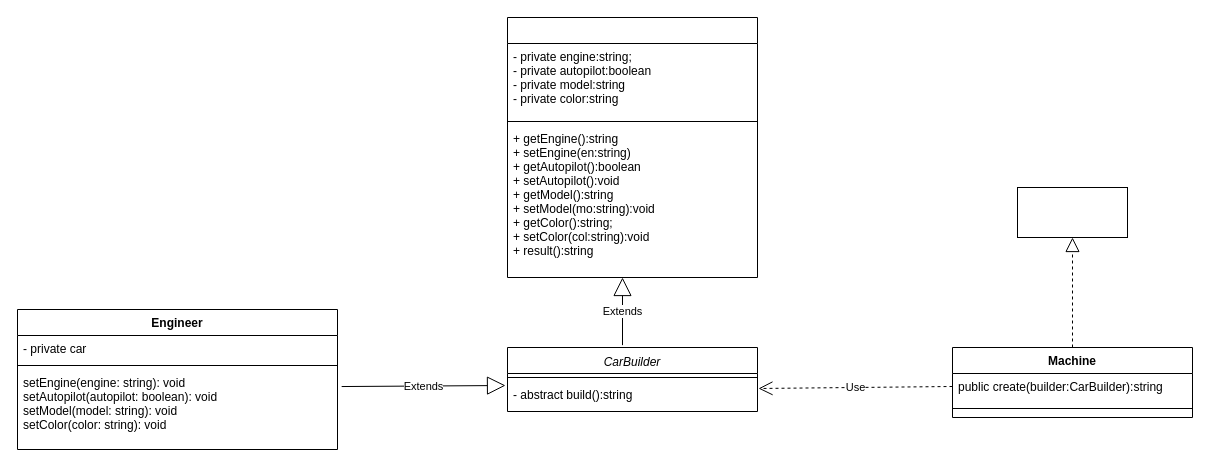
This 1210x470 diagram has some shape labels left out. The shapes that lost their labels are listed below. From the top down, each one's box as (x1, y1, x2, y2) in pixels, then its label:
(506, 16, 758, 278): Car
(1016, 186, 1128, 238): «interface» IMachine
